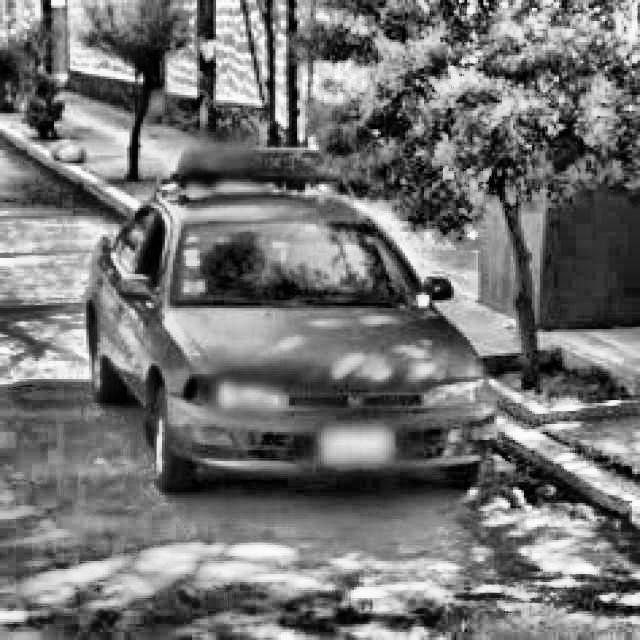carro: (84, 181, 484, 501)
